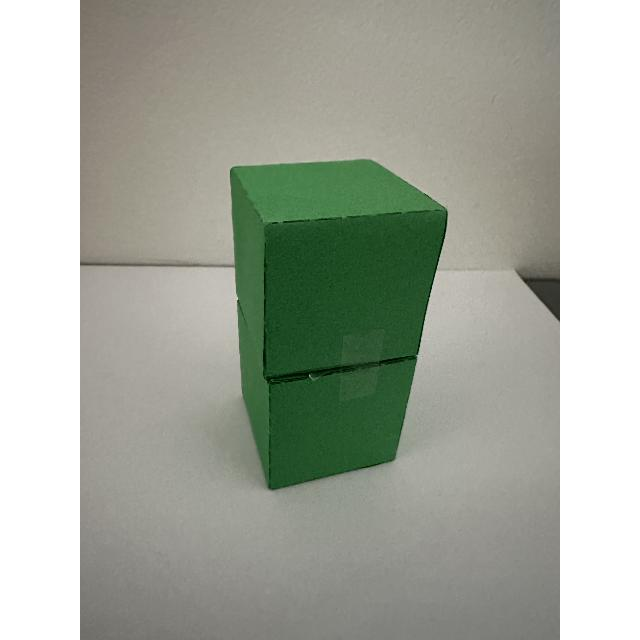green_cube: (230, 140, 488, 522)
